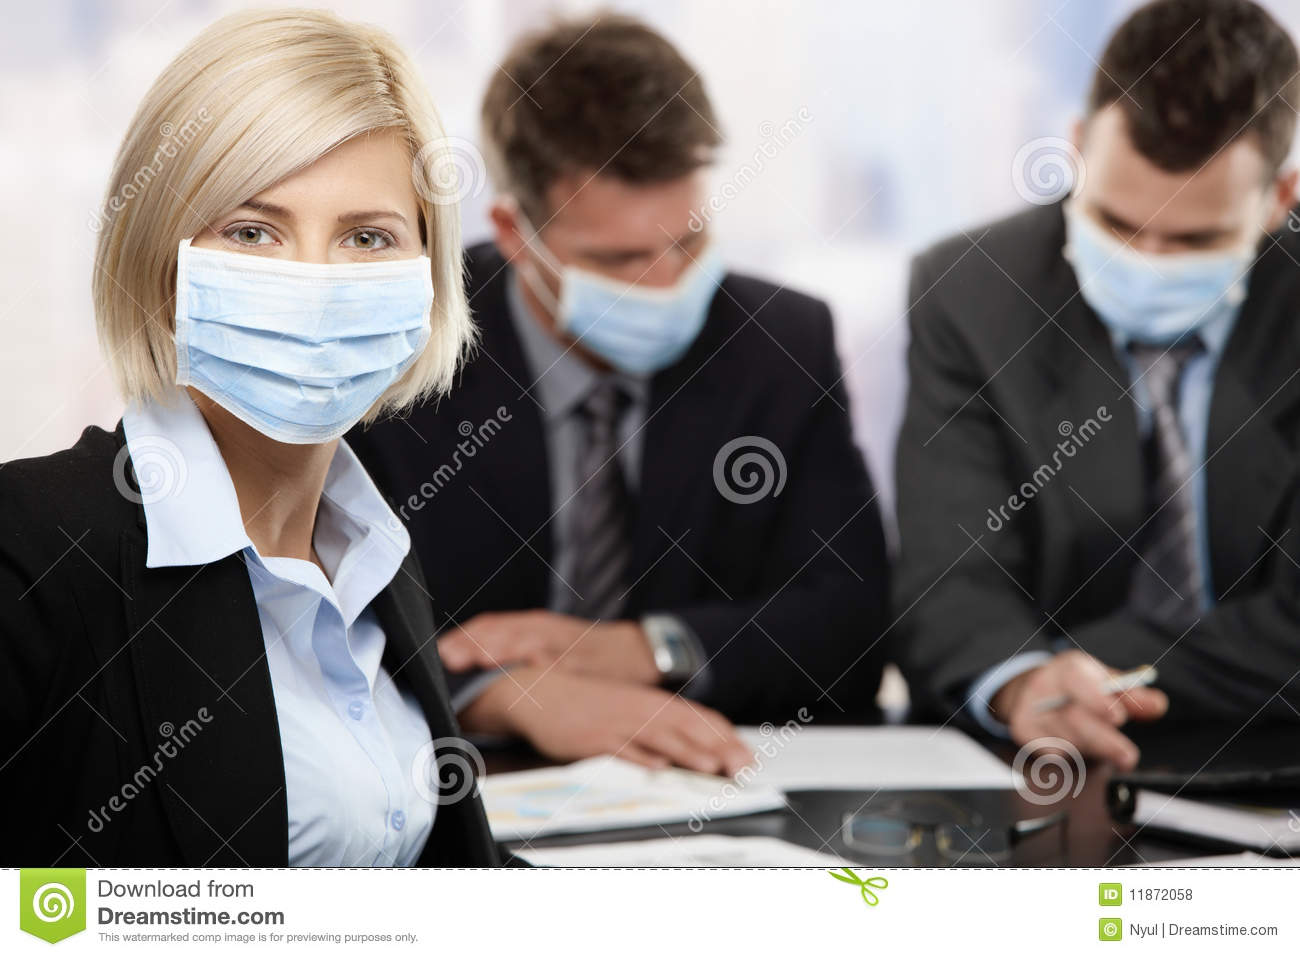mask: (171, 240, 436, 443)
